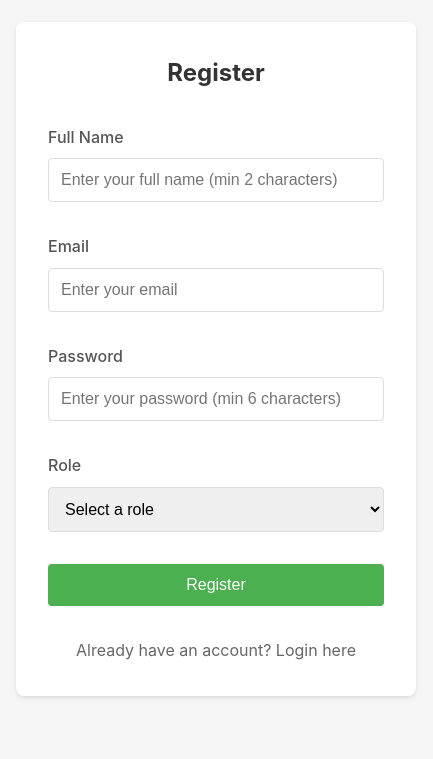
it: Register.vue › validates name length
# Fill in form with short name
Type "J" into the field labelled "Full Name" at (216, 180), box [48, 158, 384, 202]
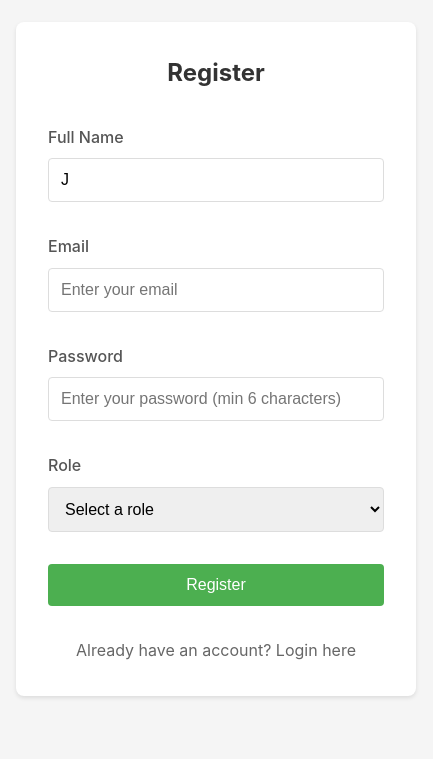
Type "john@example.com" into the field labelled "Email" at (216, 290), box [48, 268, 384, 312]
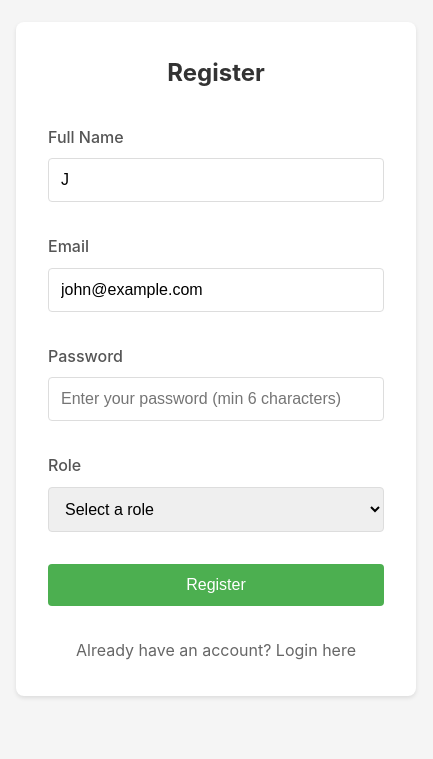
Type "password123" into the password field labelled "Password" at (216, 400), box [48, 378, 384, 422]
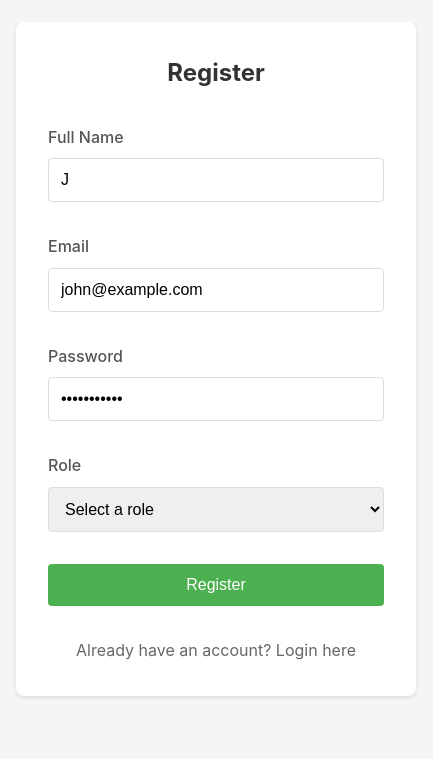
Select "Developer" in the dropdown labelled "Role" at (216, 510), box [48, 487, 384, 532]
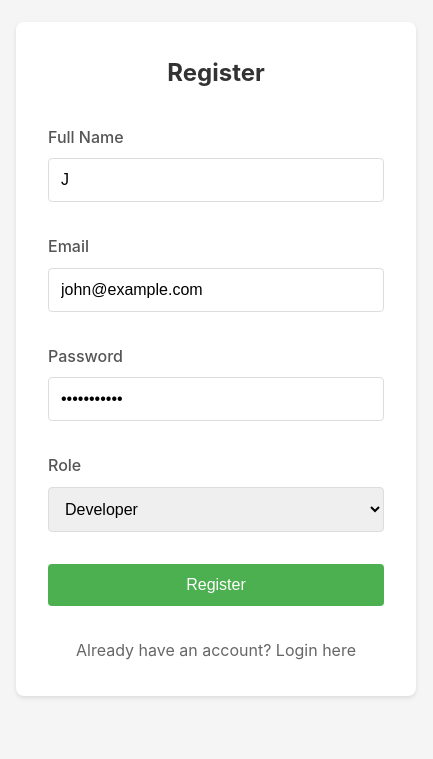
# Submit form
Submit the form, box [48, 125, 384, 664]
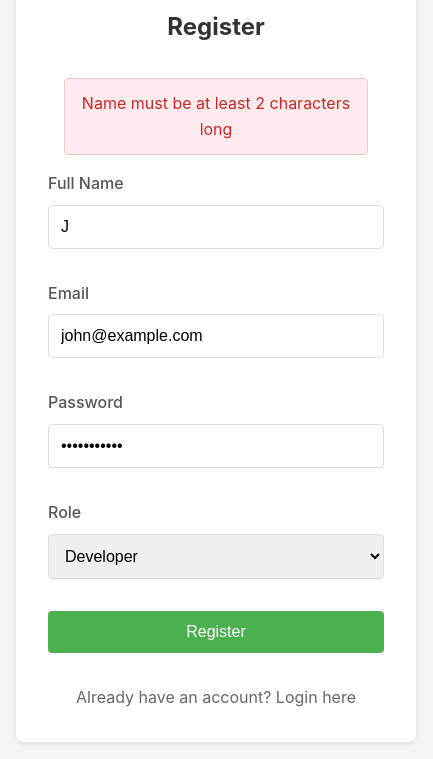
Expected: the text "Name must be at least 2 characters long" is shown, [64, 78, 368, 155]
